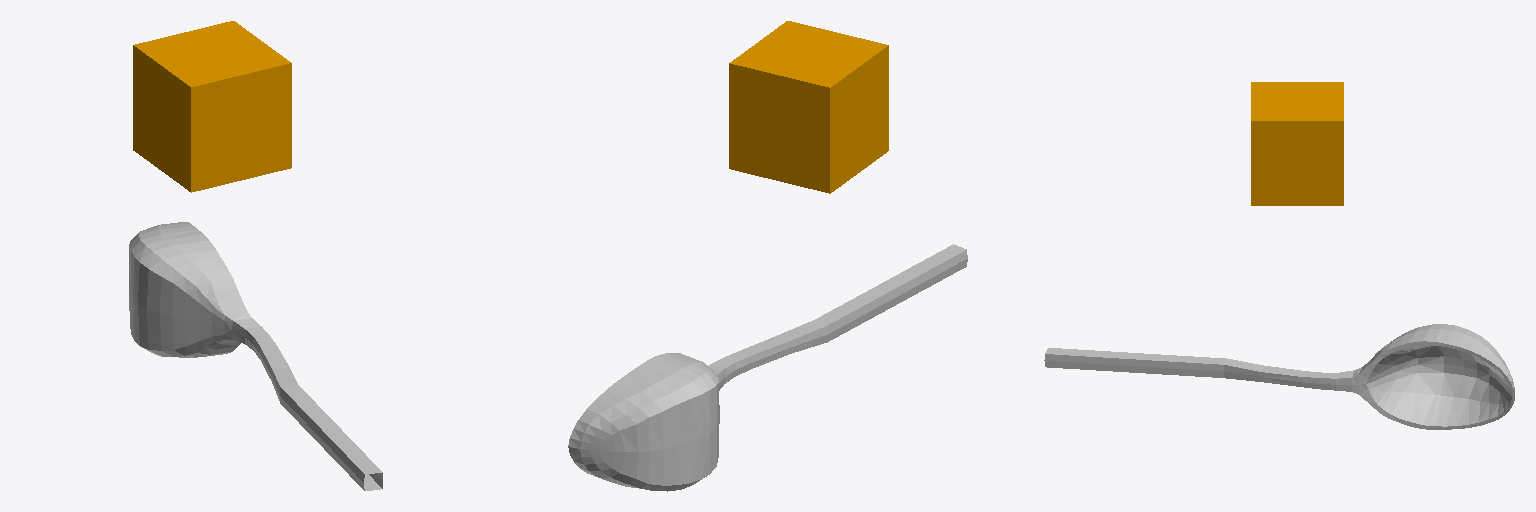
URDF robot description (spoon):
<?xml version="1.0" ?>
<robot name="spoon">
    <link name="cube_spoon">
        <visual>
            <origin xyz="0.0 0.0 0.0" rpy="0.0 0.0 0.0"/>
            <geometry>
                <box size="0.04 0.04 0.04"/>
            </geometry>    
        </visual>
        <collision>
            <origin xyz="0.0 0.0 0.0" rpy="0.0 0.0 0.0"/>
            <geometry>
                <box size="0.04 0.04 0.04"/>
            </geometry>    
        </collision>
    </link>
    
    <link name="spoon">
        <visual>
            <origin xyz="0 0 -0.1" rpy="3.14 0 0"/>
            <geometry>
                <mesh filename="spoon.dae"/>
            </geometry>
        </visual>
        <collision>
            <origin xyz="0 0 -0.1" rpy="3.14 0 0"/>
            <geometry>
                <mesh filename="spoon.dae"/>
            </geometry>
        </collision>
        <inertial>
            <mass value="0.5"/> 
            <inertia ixx="0.0" ixy="0.0" ixz="0.0" iyy="0.0" iyz="0.0" izz="0.0"/>
        </inertial>
    </link>
    <joint name="joint_name" type="fixed">
        <parent link="cube_spoon"/>
        <child link="spoon"/>
    </joint>
    
</robot>

--- Facts derived from the render (not from the file) ---
The picture shows the robot from 3 angles, left to right: view 1: azimuth 30°, elevation 25°; view 2: azimuth 150°, elevation 25°; view 3: azimuth 270°, elevation 25°; orthographic projection.
Robot: spoon — 2 links, 1 joints (1 fixed); root link cube_spoon; default pose: all joints at 0.
Visible links, largest first — view 1: cube_spoon, spoon; view 2: spoon, cube_spoon; view 3: spoon, cube_spoon.
Boxes of the visible links, left/top/right/bottom form: cube_spoon: left=133, top=21, right=291, bottom=192; spoon: left=129, top=222, right=382, bottom=490; spoon: left=568, top=244, right=967, bottom=491; cube_spoon: left=729, top=21, right=888, bottom=193; spoon: left=1044, top=324, right=1514, bottom=429; cube_spoon: left=1251, top=82, right=1343, bottom=205.
Size in the robot's own frame: 0.0614 by 0.2015 by 0.141 metres.
Meshes: 1 distinct files referenced, 1 mesh visuals loaded (1 Collada DAE).